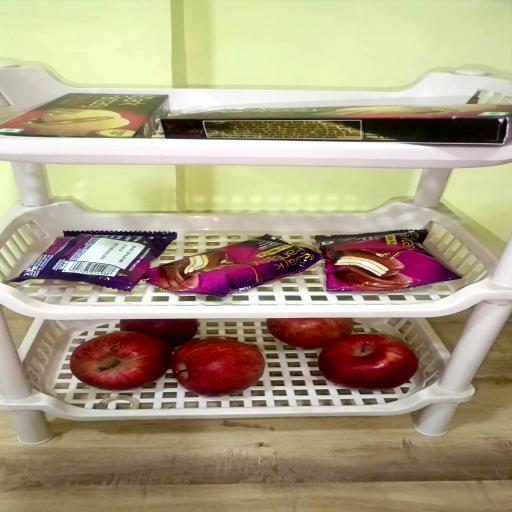Apple: (70, 331, 172, 391), (171, 338, 265, 397), (319, 334, 418, 390), (267, 318, 353, 349), (119, 318, 198, 347)
Choco Fills: (161, 103, 512, 145), (0, 93, 168, 138)
Choco Pie: (143, 235, 321, 297), (11, 231, 176, 291), (315, 230, 460, 291)
